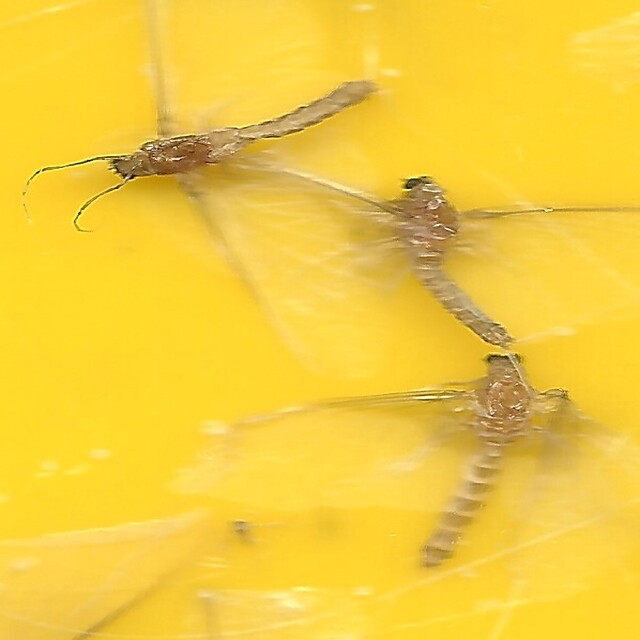Ephemeroptera: (107, 73, 381, 180), (420, 350, 533, 567), (397, 172, 519, 351)
